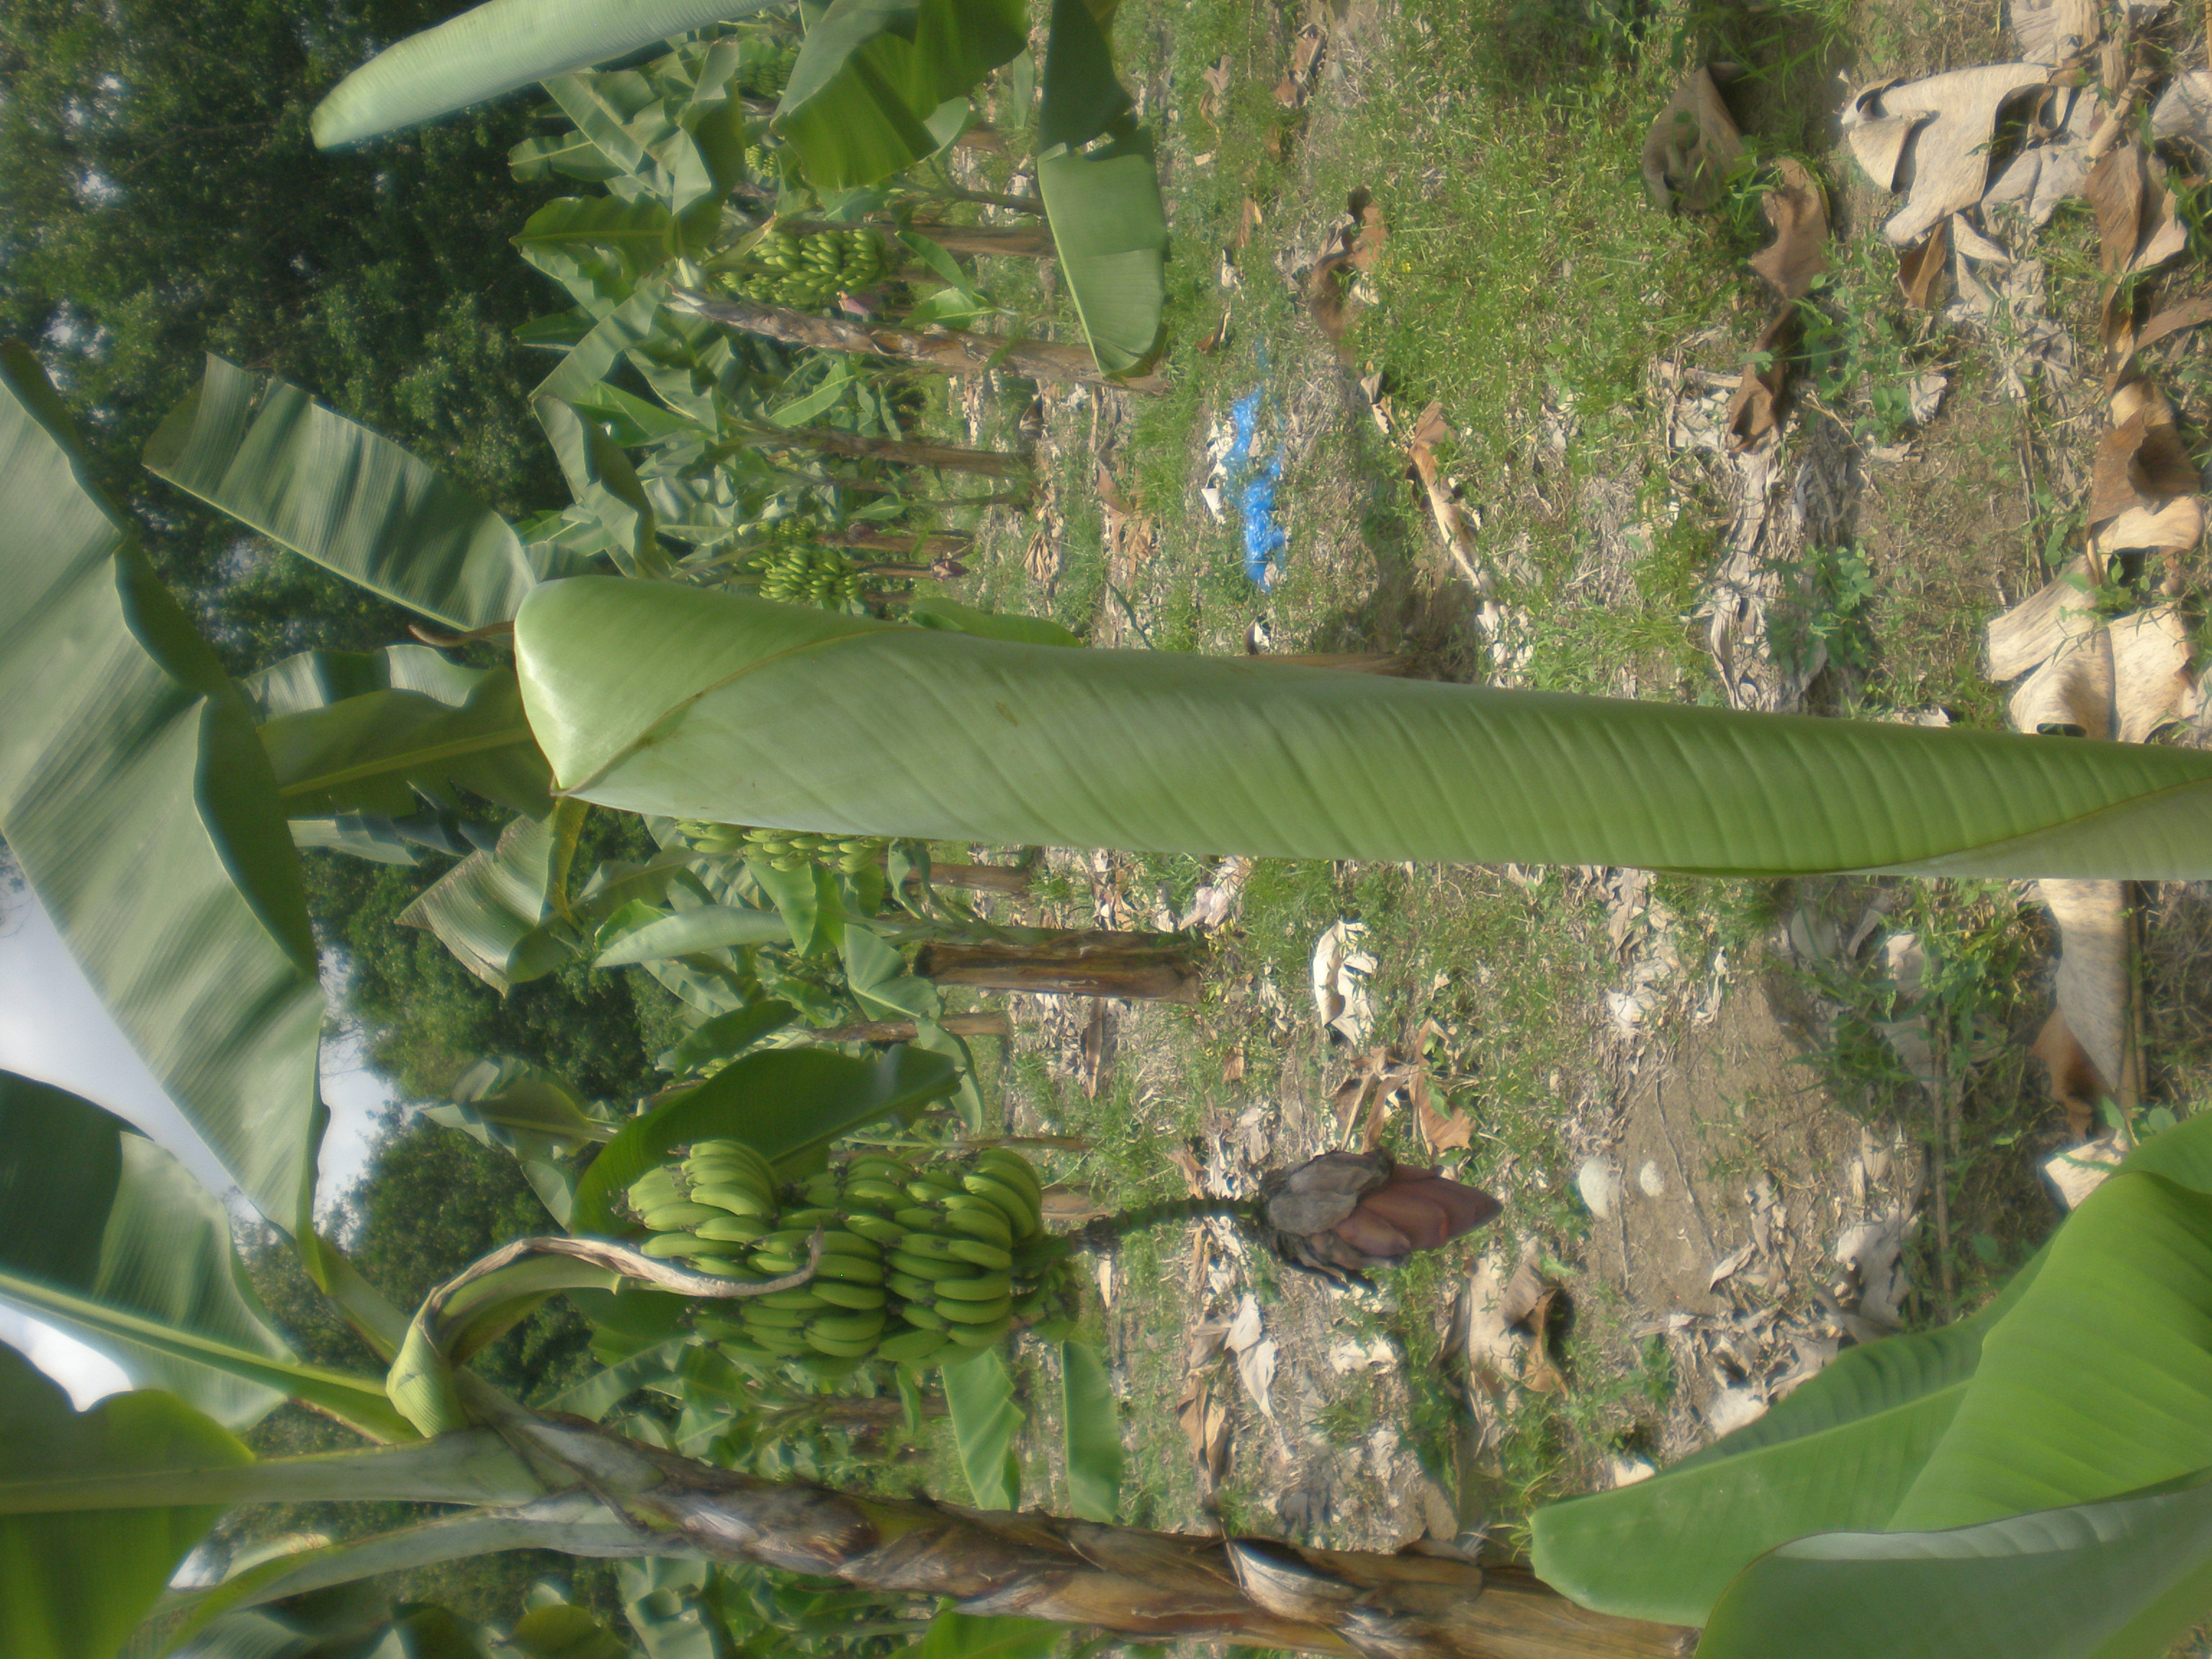candleleafs: (509, 568, 2212, 890)
